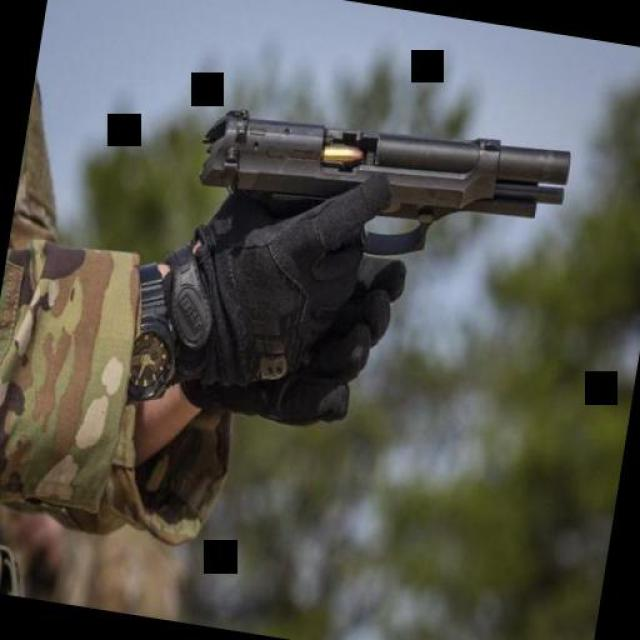gun: (185, 84, 571, 285)
